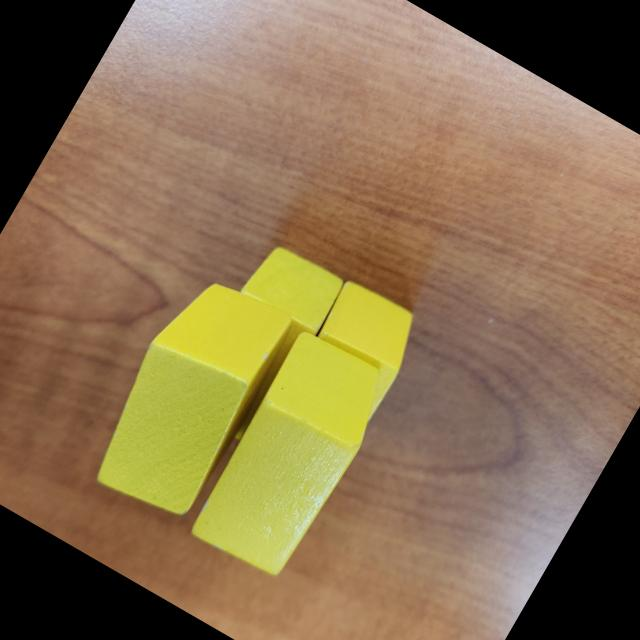yellow: (74, 262, 304, 536), (182, 325, 401, 590), (172, 238, 347, 452), (286, 277, 426, 428)
